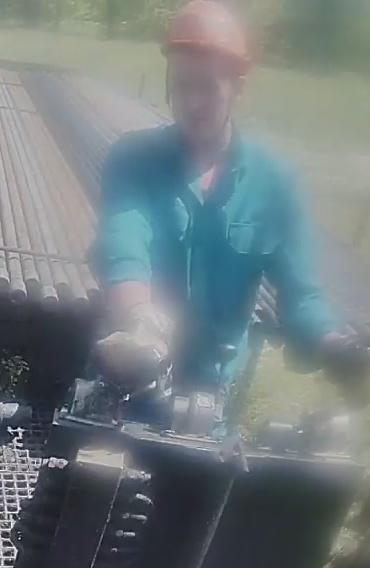gloves: (90, 303, 177, 391), (314, 332, 370, 415)
helmet: (158, 0, 254, 63)
vest: (91, 128, 314, 377)
